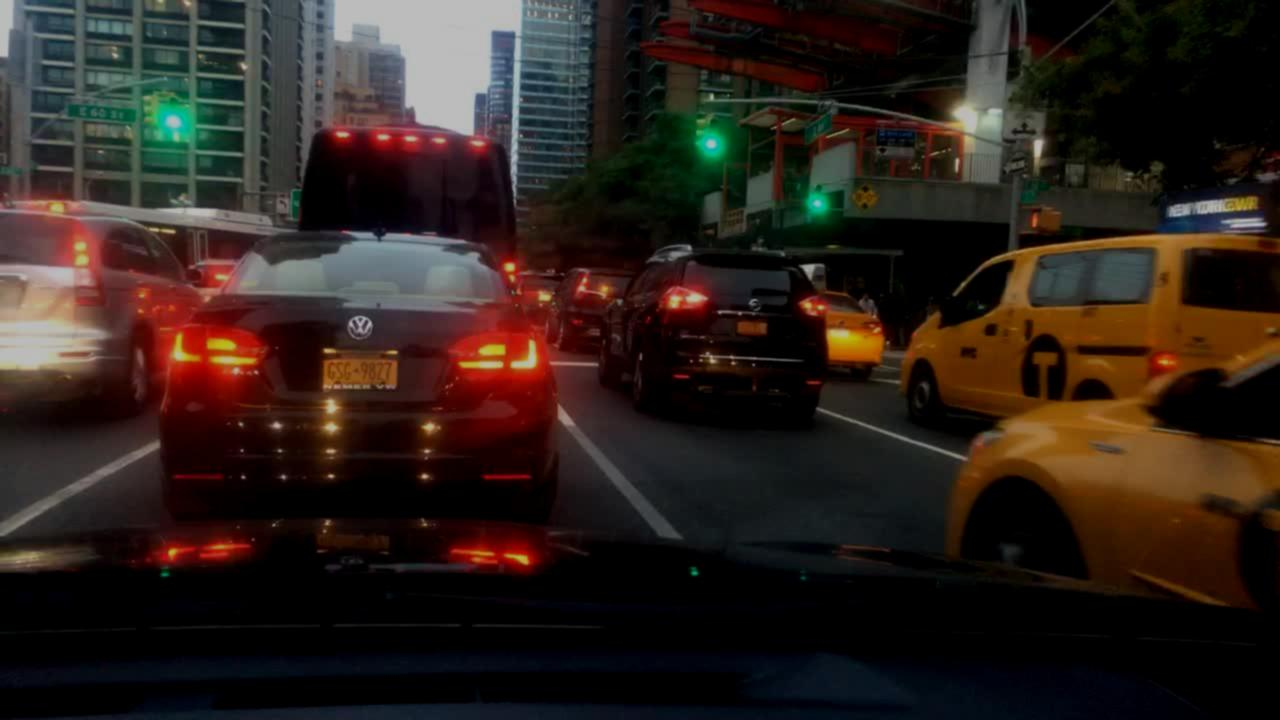Volkswagen: (343, 306, 376, 347)
